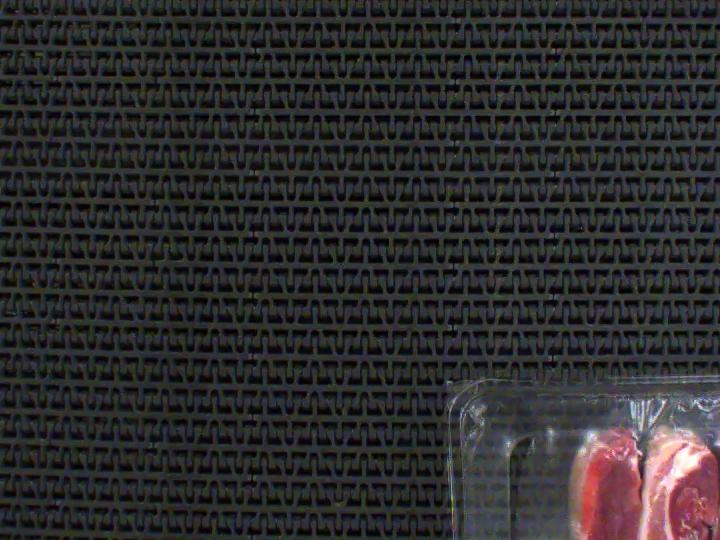unsealed: (455, 385, 720, 540)
